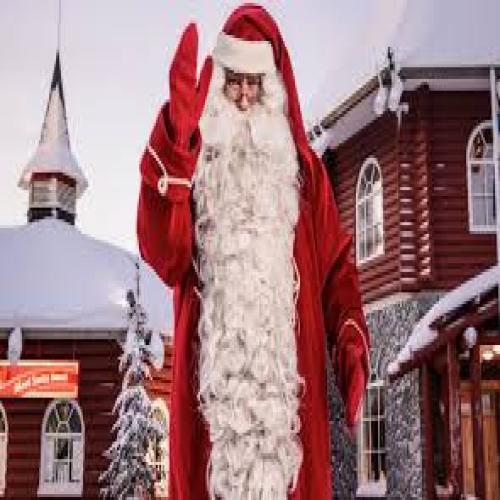Santa: (137, 3, 369, 500)
